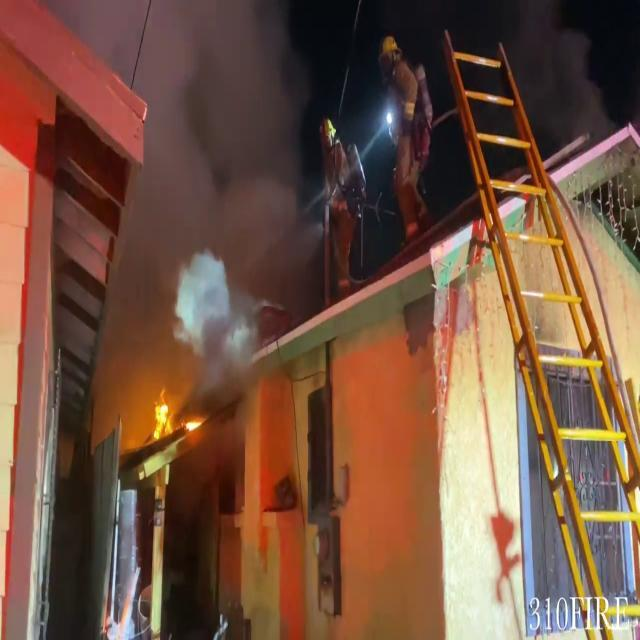Fire: (148, 391, 206, 448)
Smoke: (90, 0, 314, 284)
